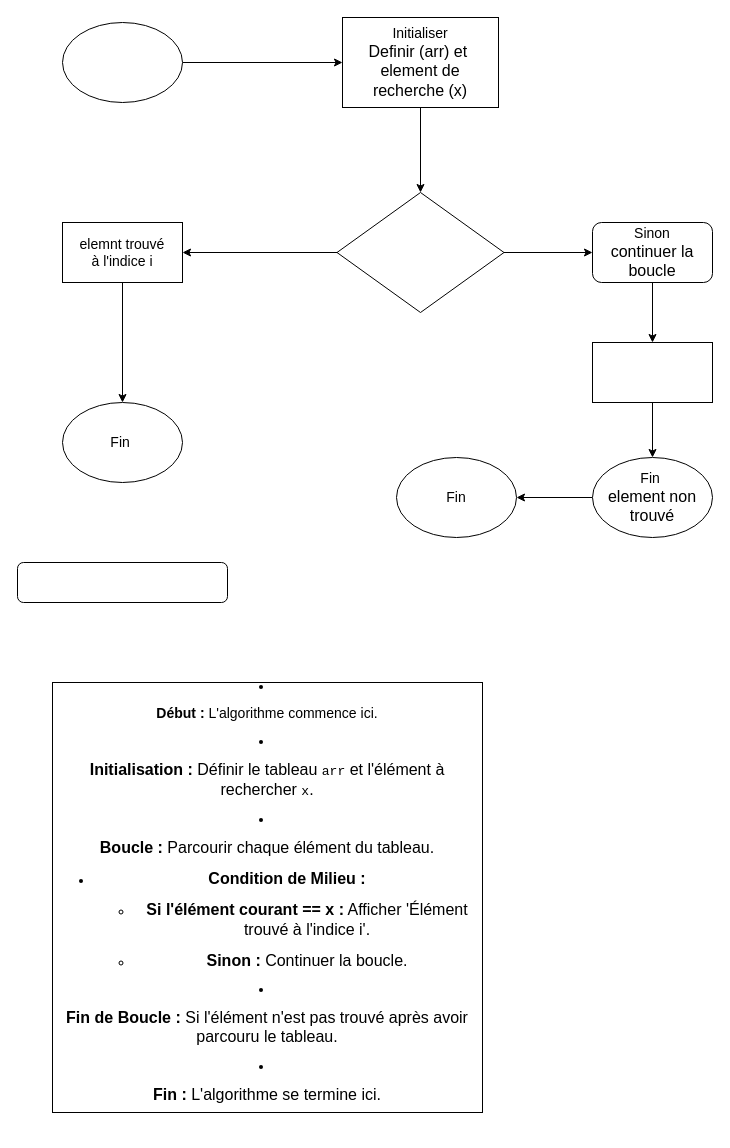
Some shapes in this 730 by 1148 pixel diagram are drawn without their labels. Each missing label, with the centre of its shape:
"ALGO LINEAIRE" goes at point (122, 582).
"Debut" goes at point (122, 62).
"Fin de boucle" goes at point (652, 372).
"Si element courant = x" goes at point (420, 252).
